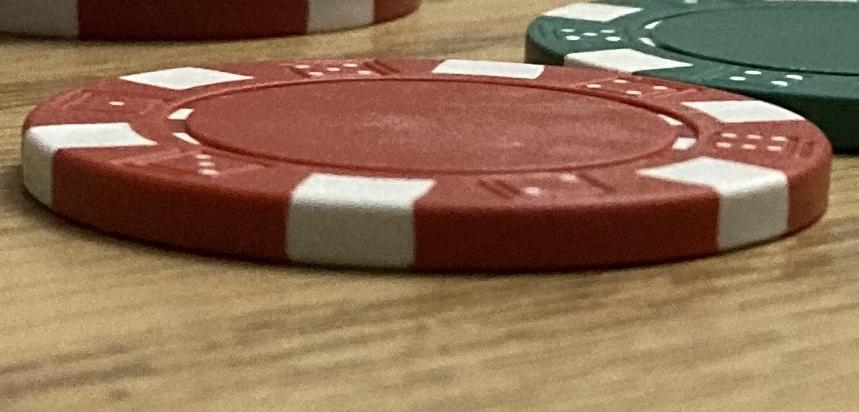Chip: (1, 1, 859, 412)
